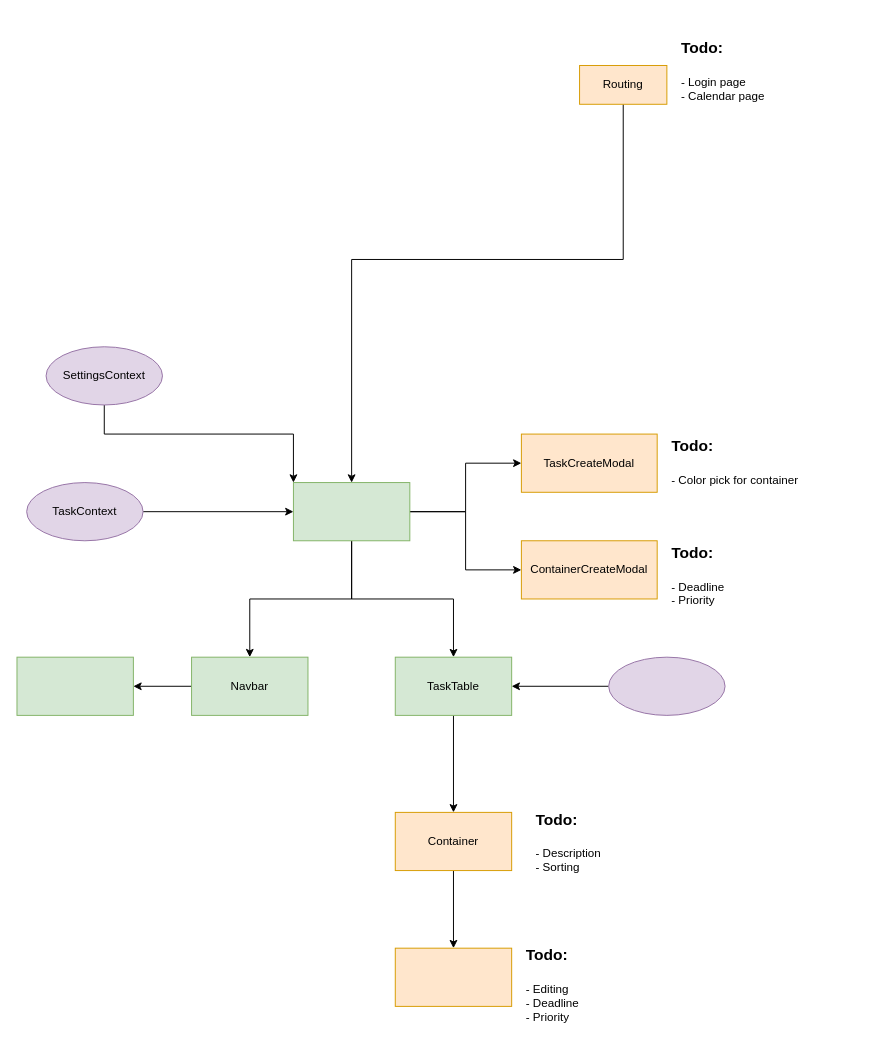
This 878x1051 diagram has some shape labels left out. The centre of each missing label's shape, as x and y in pixels:
KanbanBoard: the point at 351,511
ModalSettings: the point at 74,685
Task: the point at 453,976
useDrag: the point at 666,685
